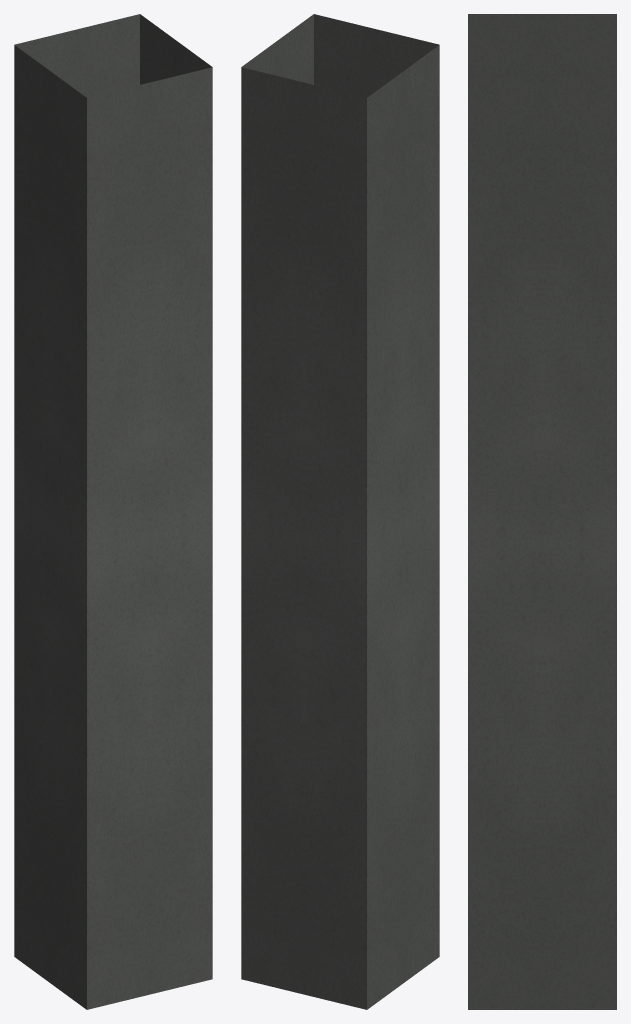
The model's file is betonsaeule2.fbx.
3 views of the same model, side by side, from view 1: azimuth 30°, elevation 25°; view 2: azimuth 150°, elevation 25°; view 3: azimuth 270°, elevation 25° (orthographic). The views are drawn at different scales.
Parts seen in each view (by area): view 1: betonsaeule2; view 2: betonsaeule2; view 3: betonsaeule2.
Part boxes in pixels (<box>): betonsaeule2: <box>14,14,212,1009</box>; betonsaeule2: <box>241,14,439,1009</box>; betonsaeule2: <box>468,14,616,1009</box>.
Bounding box in the file's own units: 200 × 1385 × 200.
